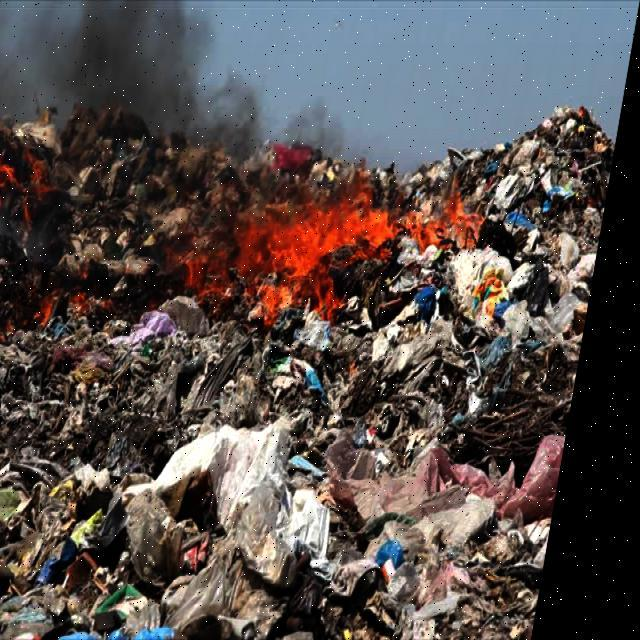Fire: (178, 165, 507, 319), (0, 115, 133, 334)
